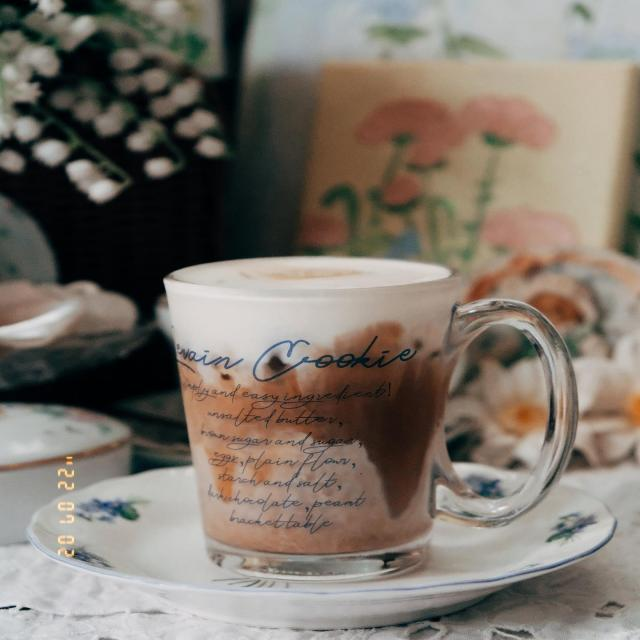glass-mug: (158, 257, 583, 588)
